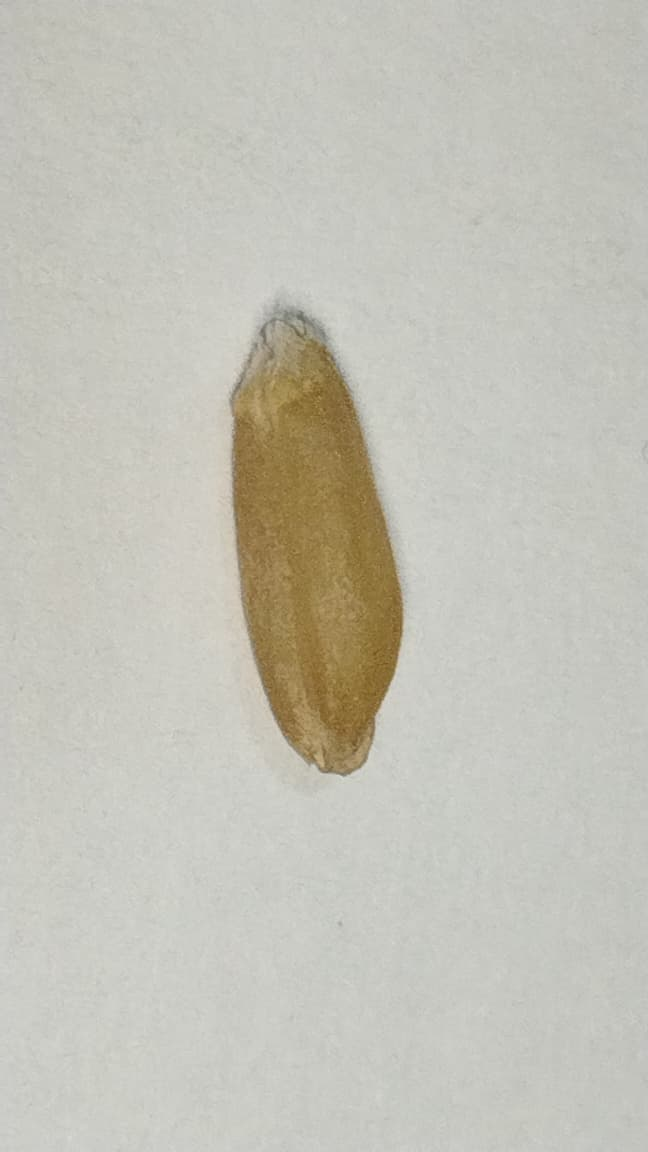healthy: (234, 316, 402, 773)
